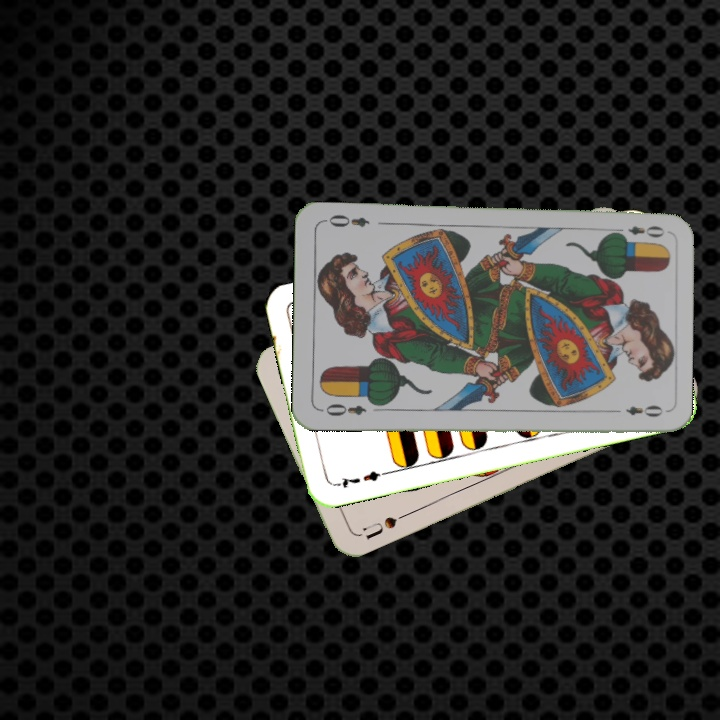E7: (330, 467, 389, 491)
EO: (609, 222, 667, 240), (317, 399, 369, 419)
SU: (359, 509, 410, 542)
